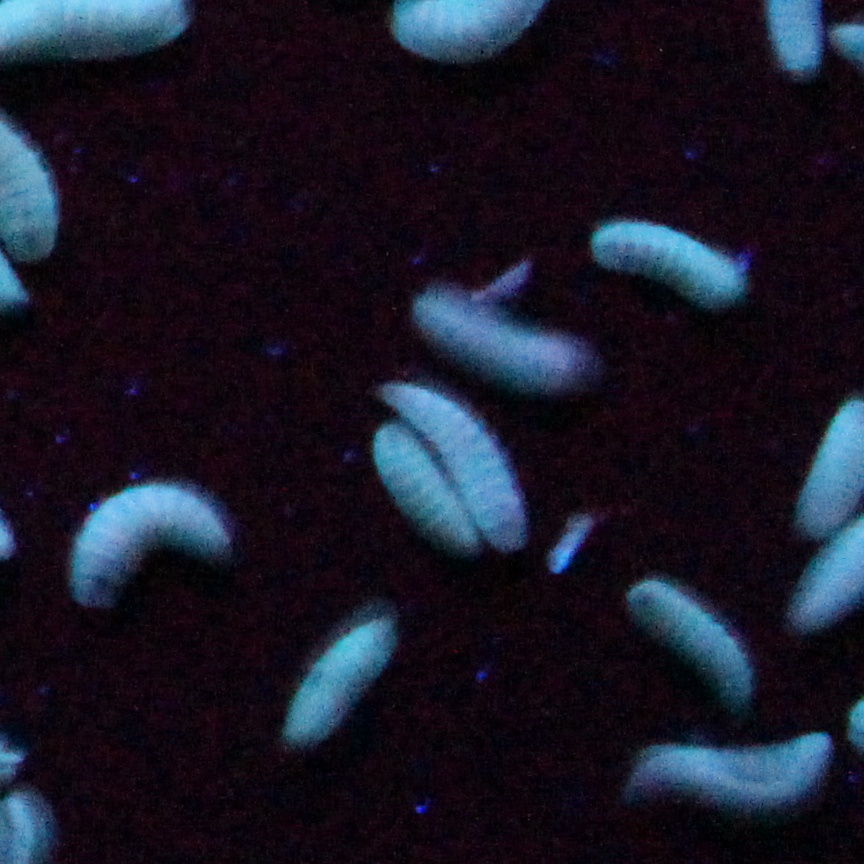larve: (414, 286, 588, 396), (413, 388, 528, 553), (83, 490, 220, 608), (284, 612, 394, 744), (589, 220, 743, 313), (637, 580, 748, 704), (376, 432, 468, 567), (637, 740, 828, 803)
